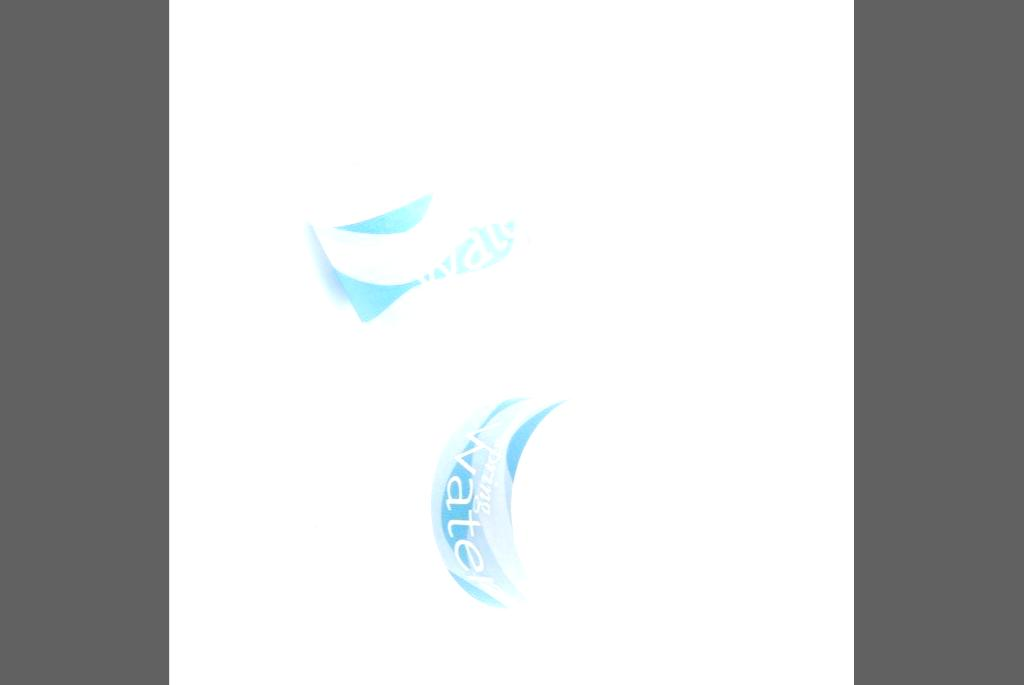bottle: (259, 0, 600, 437), (237, 392, 815, 612)
